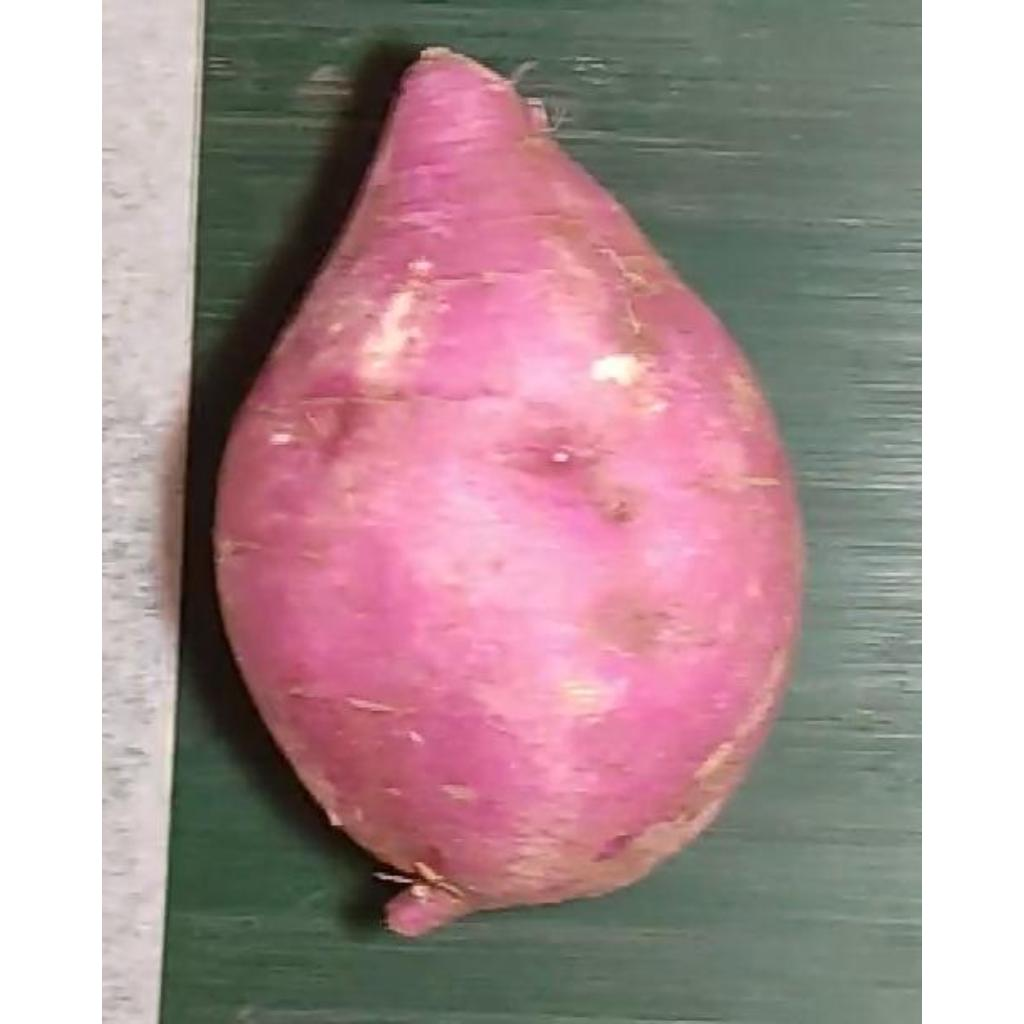Sweet Potato: (213, 47, 808, 940)
